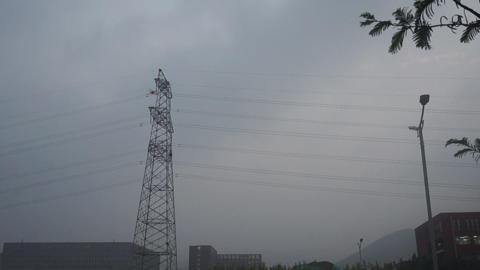UAV: (148, 89, 157, 95)
